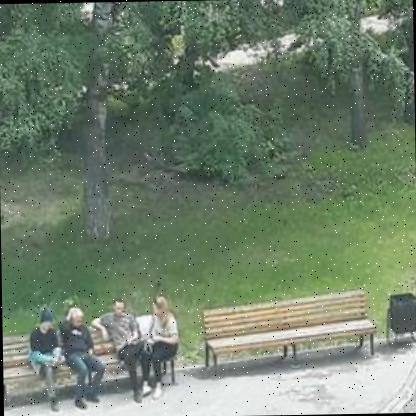person: (102, 292, 154, 404), (27, 299, 73, 416), (61, 301, 106, 416), (144, 290, 186, 402)
